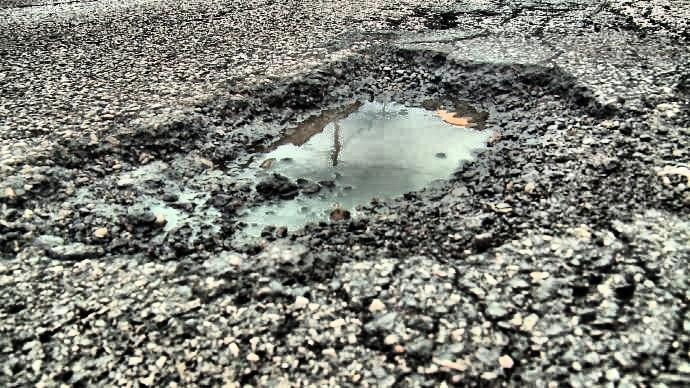pothole: (177, 39, 579, 273)
